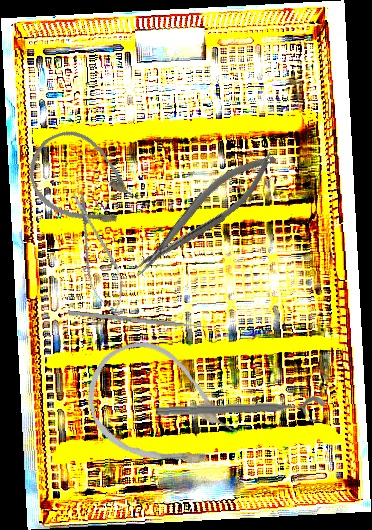Cannula: (66, 322, 254, 499), (13, 117, 153, 248)
Fixation Ring: (155, 396, 326, 430)
Micro Scissor: (61, 185, 132, 317)
Needle Holder: (122, 143, 286, 282)
Pusher: (67, 310, 216, 331)
